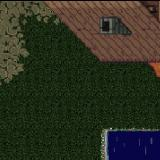Interaction: (116, 114, 160, 134), (96, 116, 115, 160)
Obstacle: (103, 0, 160, 95)
Slow: (108, 132, 160, 160)
